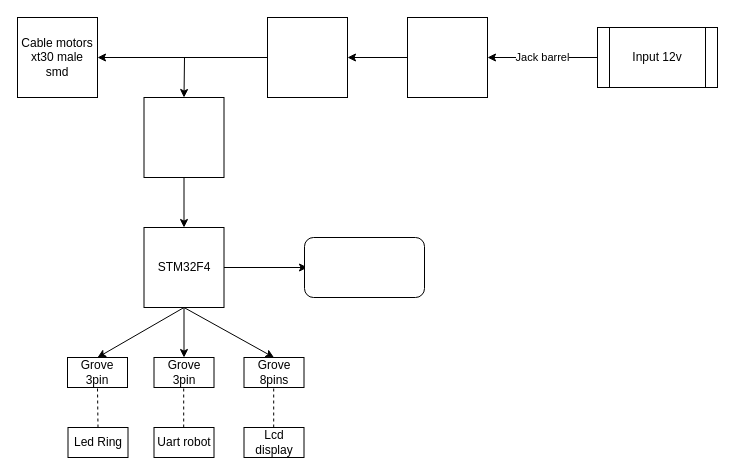
This 735x475 diagram has some shape labels left out. Here are the shapes that lost their labels. From the top down, the box of each, then its label:
(266, 16, 348, 98): 16V capacitor
(406, 16, 488, 98): Xt30 smd
(143, 96, 224, 178): Boost converter 12v to 6v
(304, 236, 424, 298): USB C connector
